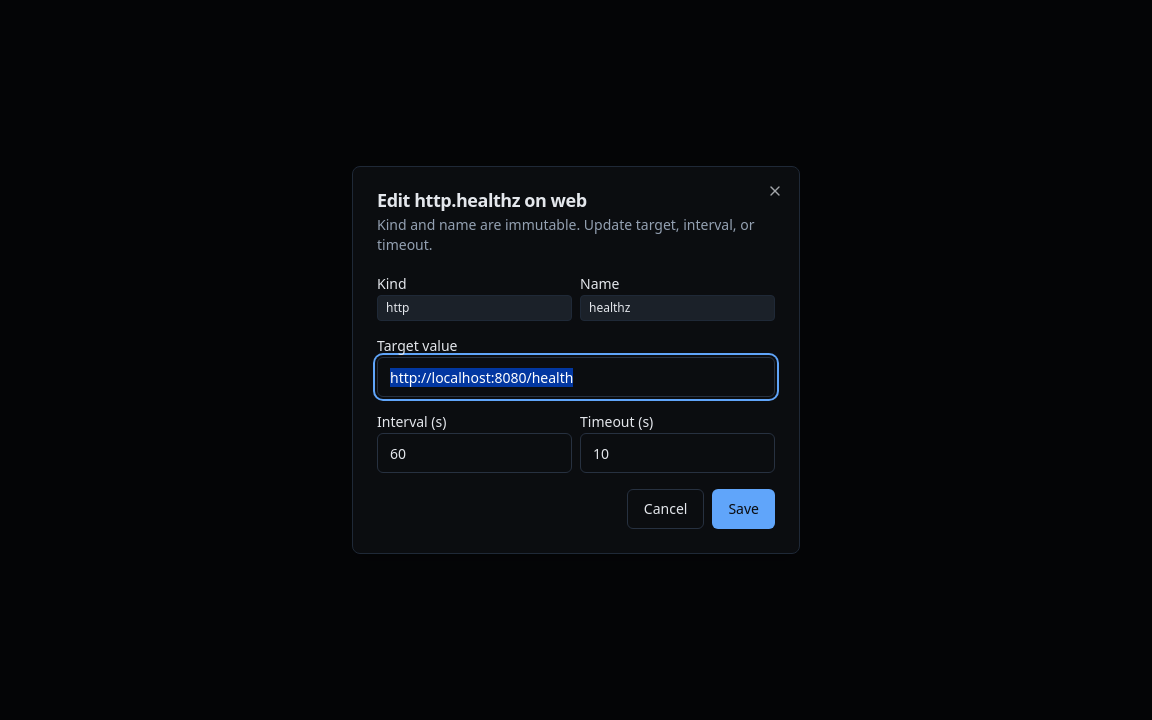
it: EditProbeModal › shows timeout validation error when timeout is out of range
Replace the text in the number field with test id "edit-probe-timeout" with "9999" at [678, 453], box [580,433,775,473]
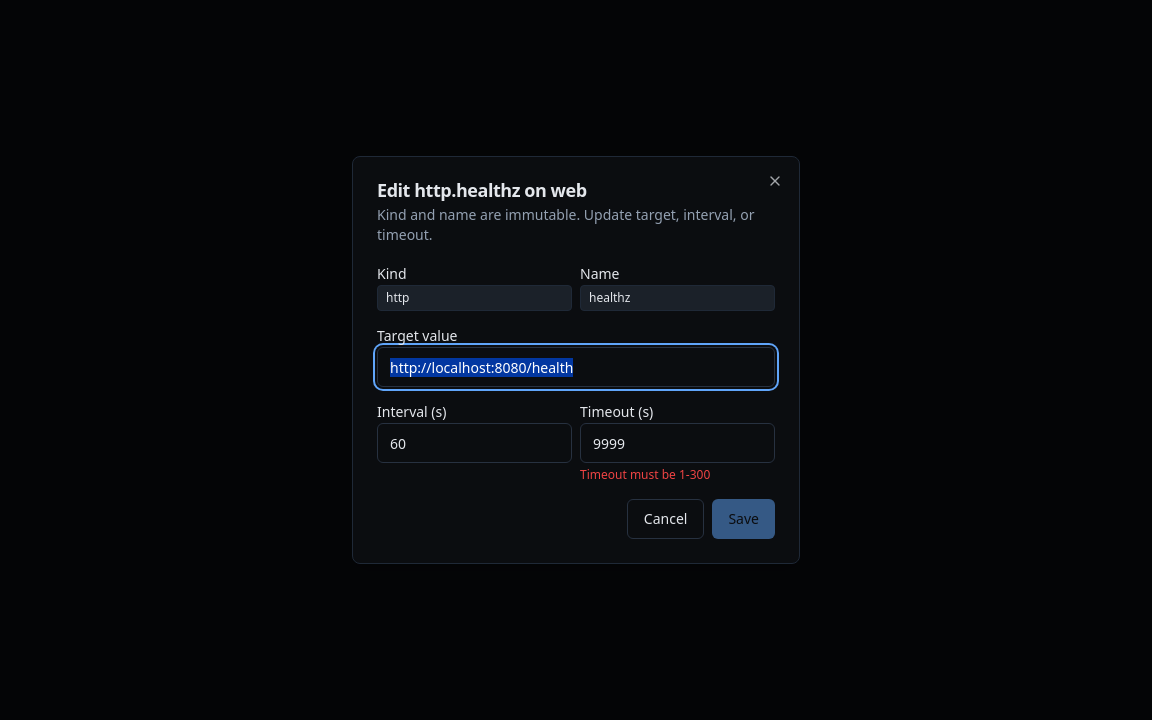
Now the text "Timeout must be 1-300" is shown, box [580,466,710,483]
Now the button with test id "edit-probe-submit" is disabled, box [712,499,775,539]
